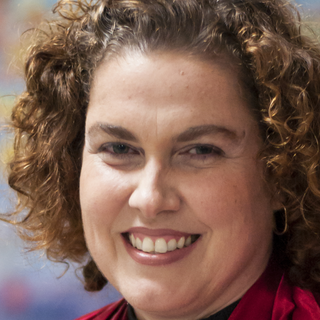eye: (91, 138, 146, 165), (169, 141, 227, 166)
